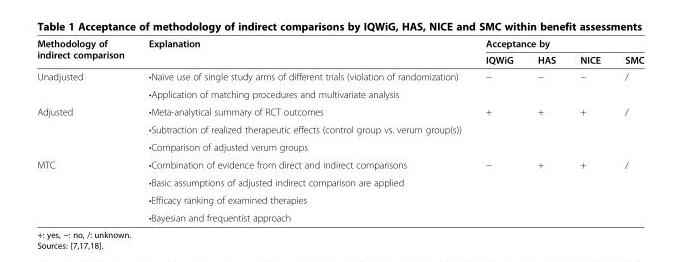table: (36, 37, 643, 222)
table column: (135, 37, 472, 222), (36, 37, 135, 222), (472, 37, 524, 222), (567, 37, 612, 222), (524, 37, 567, 222), (612, 37, 643, 222)
table column header: (36, 37, 643, 67)
table row: (36, 67, 643, 85), (36, 102, 643, 120), (36, 137, 643, 155), (36, 155, 643, 173), (36, 190, 643, 208), (36, 85, 643, 102), (36, 120, 643, 137), (36, 173, 643, 190), (36, 51, 643, 67), (36, 37, 643, 51), (36, 208, 643, 222)
table spanning cell: (135, 37, 472, 67), (36, 155, 135, 222), (36, 102, 135, 155), (472, 155, 524, 222), (36, 67, 135, 102), (567, 155, 612, 222), (36, 37, 135, 67), (524, 155, 567, 222), (472, 102, 524, 155), (472, 37, 643, 51), (567, 102, 612, 155), (524, 102, 567, 155), (612, 155, 643, 222), (472, 67, 524, 102), (612, 102, 643, 155), (567, 67, 612, 102), (524, 67, 567, 102), (612, 67, 643, 102)
